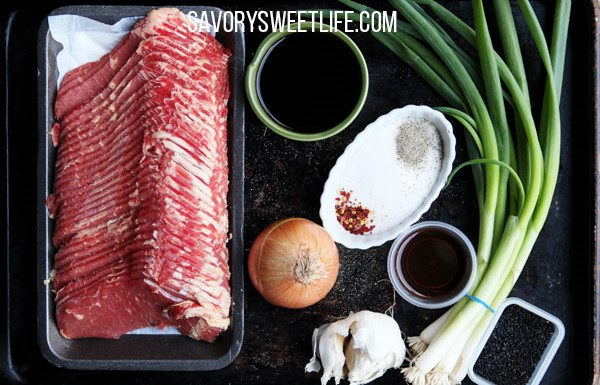Beef: (42, 10, 232, 352)
Green Onion: (370, 1, 568, 381)
Onion: (244, 209, 344, 314)
